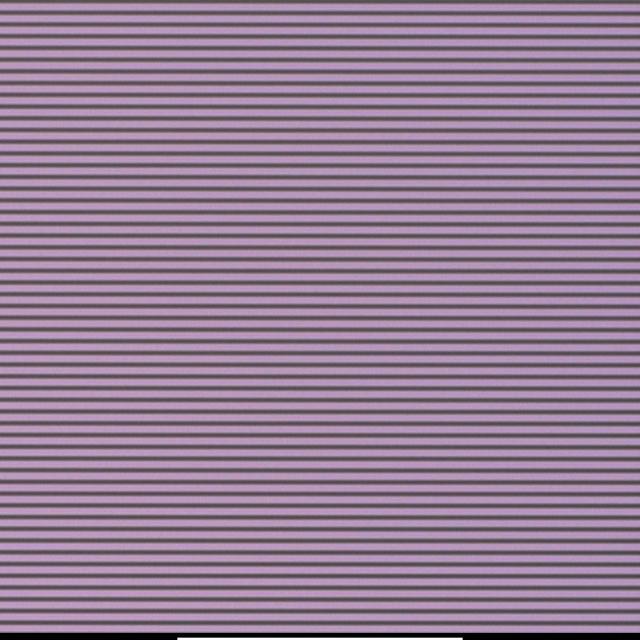nonvisual: (300, 288, 307, 298)
